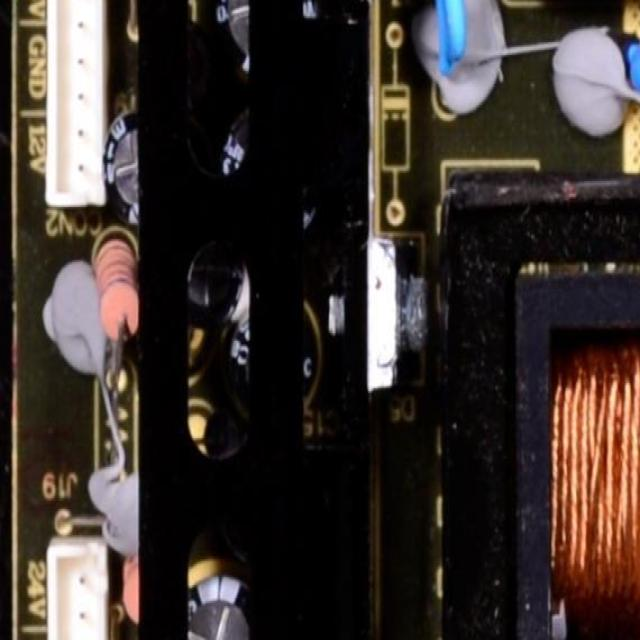capacitor: (434, 0, 481, 99), (614, 24, 640, 120)
connector: (49, 0, 104, 205), (45, 536, 109, 640)
